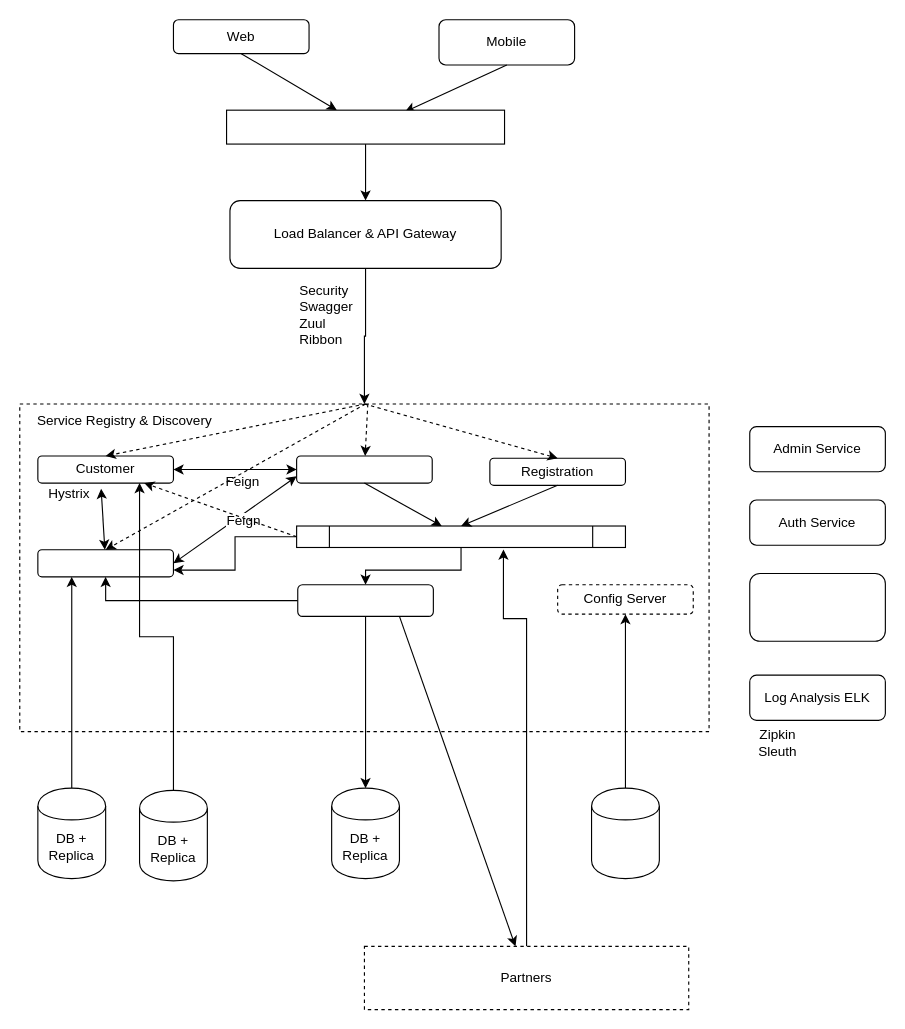
The diagram is 905 pixels wide and 1029 high, and some of its shapes have lost their labels. The centre of each missing label's shape, as x and y in pixels:
"Calculation" belongs at [365,600].
"Firewall" belongs at [365,126].
"GIT" belongs at [624,833].
"History" belongs at [105,563].
"Messaging" belongs at [460,536].
"Monitoring Turbine Hystrix" belongs at [817,606].
"Payment" belongs at [363,469].
